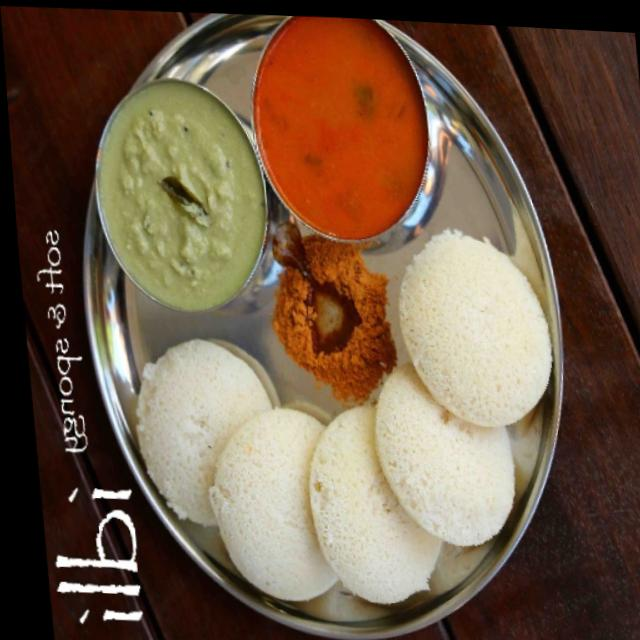GREEN CHUTNEY: (95, 80, 263, 309)
IDLI: (137, 230, 550, 602)
PODI: (273, 235, 393, 404)
SAMBAR: (252, 16, 426, 239)
